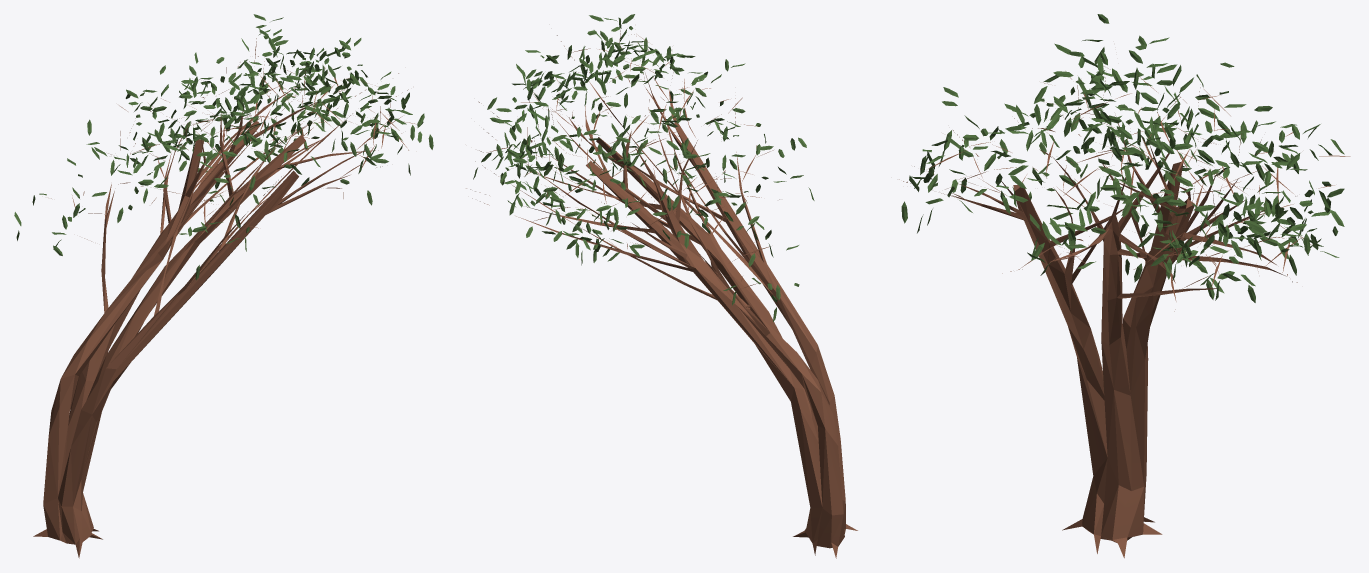
File: ArbousierCanopee_2_Niveau1.fbx
The picture shows the model from 3 angles, left to right: view 1: azimuth 30°, elevation 25°; view 2: azimuth 150°, elevation 25°; view 3: azimuth 270°, elevation 25°; orthographic projection. The views are drawn at different scales.
Parts seen in each view (by area): view 1: ArbousierCanopee_2_Niveau1; view 2: ArbousierCanopee_2_Niveau1; view 3: ArbousierCanopee_2_Niveau1.
Part boxes in pixels (x1,y1,x2,y2): ArbousierCanopee_2_Niveau1: (14, 14, 433, 558); ArbousierCanopee_2_Niveau1: (466, 14, 857, 558); ArbousierCanopee_2_Niveau1: (899, 14, 1350, 558).
Size of the model in its own units: 307 by 367 by 244.
